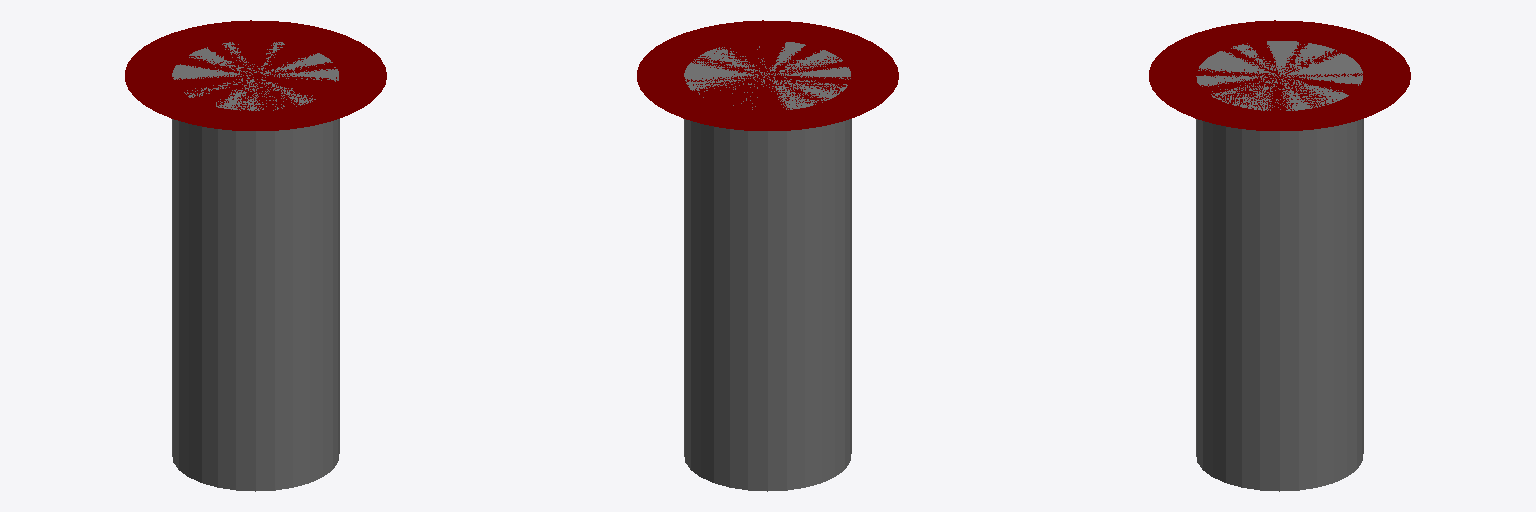
The robot description file, URDF, robot "straight_link-l.SLDASM":
<?xml version="1.0" encoding="utf-8"?>
<!-- This URDF was automatically created by SolidWorks to URDF Exporter! Originally created by [author] ([email redacted]) 
     Commit Version: 1.6.0-4-g7f85cfe  Build Version: 1.6.7995.38578
     For more information, please see http://wiki.ros.org/sw_urdf_exporter -->
<robot
  name="straight_link-l.SLDASM">
  <link
    name="sl_out_1">
    <inertial>
      <origin
        xyz="-6.238E-18 -3.0195E-34 -0.075"
        rpy="0 0 0" />
      <mass
        value="0.42412" />
      <inertia
        ixx="0.00089064"
        ixy="-5.4226E-37"
        ixz="-3.3881E-20"
        iyy="0.00089064"
        iyz="-9.2204E-37"
        izz="0.00019085" />
    </inertial>
    <visual>
      <origin
        xyz="0 0 0"
        rpy="0 0 0" />
      <geometry>
        <mesh
          filename="package://straight_link-l.SLDASM/meshes/sl_out_1.STL" />
      </geometry>
      <material
        name="red">
        <color
          rgba="0.5 0 0 1" />
      </material>
    </visual>
    <collision>
      <origin
        xyz="0 0 0"
        rpy="0 0 0" />
      <geometry>
        <mesh
          filename="package://straight_link-l.SLDASM/meshes/sl_out_1.STL" />
      </geometry>
    </collision>
  </link>
  <link
    name="sl_body">
    <inertial>
      <origin
        xyz="-6.238E-18 -3.0195E-34 -0.075"
        rpy="0 0 0" />
      <mass
        value="0.42412" />
      <inertia
        ixx="0.00089064"
        ixy="-5.4226E-37"
        ixz="-3.3881E-20"
        iyy="0.00089064"
        iyz="-9.2204E-37"
        izz="0.00019085" />
    </inertial>
    <visual>
      <origin
        xyz="0 0 0"
        rpy="0 0 0" />
      <geometry>
        <mesh
          filename="package://straight_link-l.SLDASM/meshes/sl_body.STL" />
      </geometry>
      <material
        name="body">
        <color
          rgba="0.5 0.5 0.5 1" />
      </material>
    </visual>
    <collision>
      <origin
        xyz="0 0 0"
        rpy="0 0 0" />
      <geometry>
        <mesh
          filename="package://straight_link-l.SLDASM/meshes/sl_body.STL" />
      </geometry>
    </collision>
  </link>
  <joint
    name="sl_large_1"
    type="fixed">
    <origin
      xyz="0 0 0"
      rpy="0 0 0" />
    <parent
      link="sl_out_1" />
    <child
      link="sl_body" />
    <axis
      xyz="0 0 0" />
  </joint>
  <link
    name="sl_out_2">
    <inertial>
      <origin
        xyz="-6.238E-18 -3.6234E-35 -0.075"
        rpy="0 0 0" />
      <mass
        value="0.42412" />
      <inertia
        ixx="0.00089064"
        ixy="5.4226E-37"
        ixz="3.3881E-20"
        iyy="0.00089064"
        iyz="-9.2204E-37"
        izz="0.00019085" />
    </inertial>
    <visual>
      <origin
        xyz="0 0 0"
        rpy="0 0 0" />
      <geometry>
        <mesh
          filename="package://straight_link-l.SLDASM/meshes/sl_out_2.STL" />
      </geometry>
      <material
        name="red">
        <color
          rgba="0.5 0 0 1" />
      </material>
    </visual>
    <collision>
      <origin
        xyz="0 0 0"
        rpy="0 0 0" />
      <geometry>
        <mesh
          filename="package://straight_link-l.SLDASM/meshes/sl_out_2.STL" />
      </geometry>
    </collision>
  </link>
  <joint
    name="sl_large_2"
    type="fixed">
    <origin
      xyz="0 0 -0.15"
      rpy="3.14159265358979 0 0" />
    <parent
      link="sl_body" />
    <child
      link="sl_out_2" />
    <axis
      xyz="0 0 0" />
  </joint>
</robot>

--- What the picture shows (computed from the rendered views, not written in the file) ---
The picture shows the robot from 3 angles, left to right: view 1: azimuth 30°, elevation 25°; view 2: azimuth 150°, elevation 25°; view 3: azimuth 270°, elevation 25°; orthographic projection.
Model straight_link-l.SLDASM with 3 links and 2 joints (2 fixed), rooted at sl_out_1, posed all joints at 0.
Visible links, largest first — view 1: sl_body, sl_out_1; view 2: sl_body, sl_out_1; view 3: sl_body, sl_out_1.
Boxes of the visible links, left/top/right/bottom form: sl_body: left=172, top=42, right=339, bottom=491; sl_out_1: left=125, top=20, right=386, bottom=130; sl_body: left=684, top=42, right=851, bottom=491; sl_out_1: left=637, top=20, right=898, bottom=130; sl_body: left=1196, top=41, right=1363, bottom=491; sl_out_1: left=1149, top=20, right=1410, bottom=130.
Bounding box of the posed robot: 0.0939 × 0.0938 × 0.15 m (x, y, z).
Meshes: 3 distinct files referenced, 2 mesh visuals loaded (2 binary STL); not drawn: 1 (reference not matched to a file when rendering).